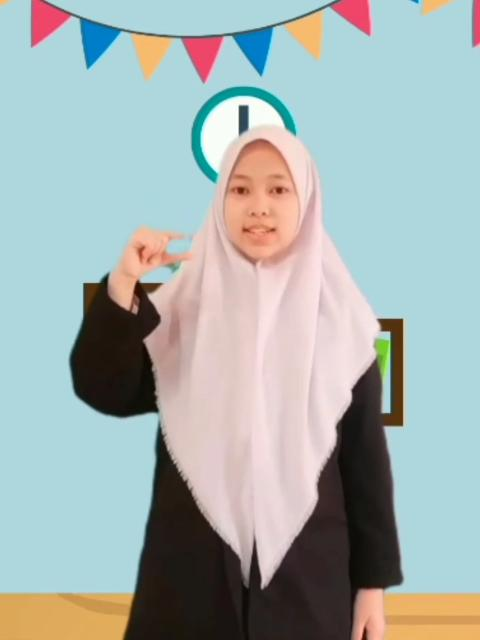G: (118, 222, 202, 284)
